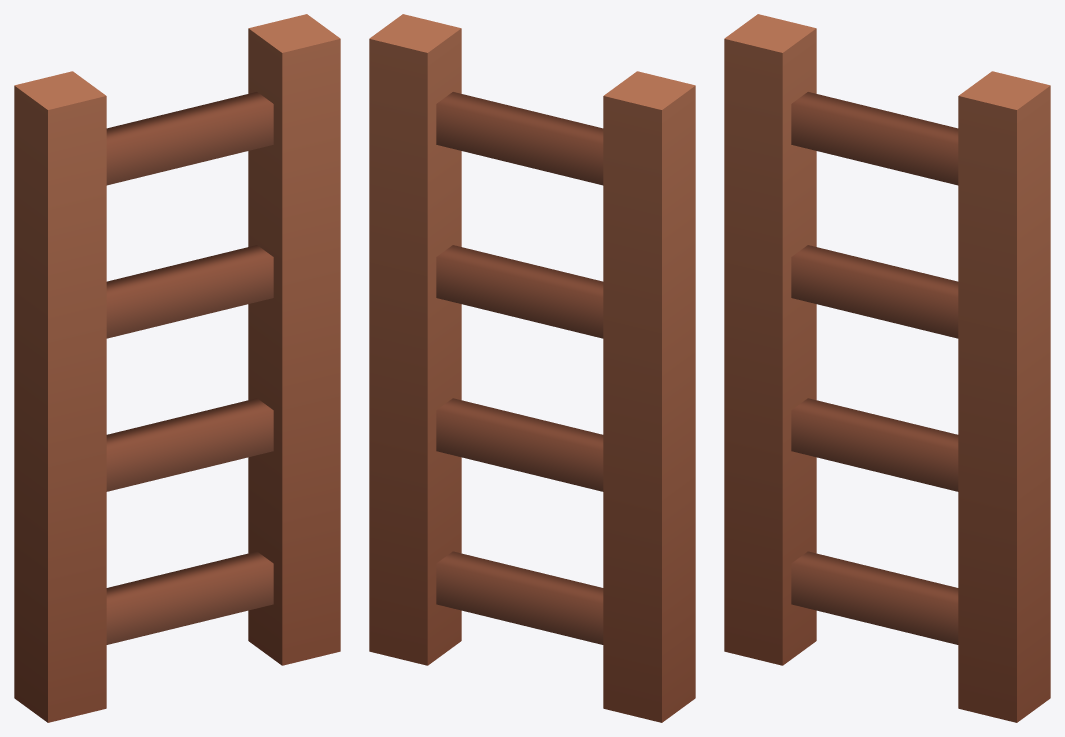
File: ladder.glb
3 views of the same model, side by side, from view 1: azimuth 30°, elevation 25°; view 2: azimuth 150°, elevation 25°; view 3: azimuth 330°, elevation 25° (orthographic).
Visible parts, largest first — view 1: ladder; view 2: ladder; view 3: ladder.
Boxes of the visible parts, x1=… form: ladder: x1=14, y1=14, x2=340, y2=722; ladder: x1=369, y1=14, x2=695, y2=722; ladder: x1=724, y1=14, x2=1050, y2=722.
Bounding box in the file's own units: 0.5 × 1 × 0.1.
